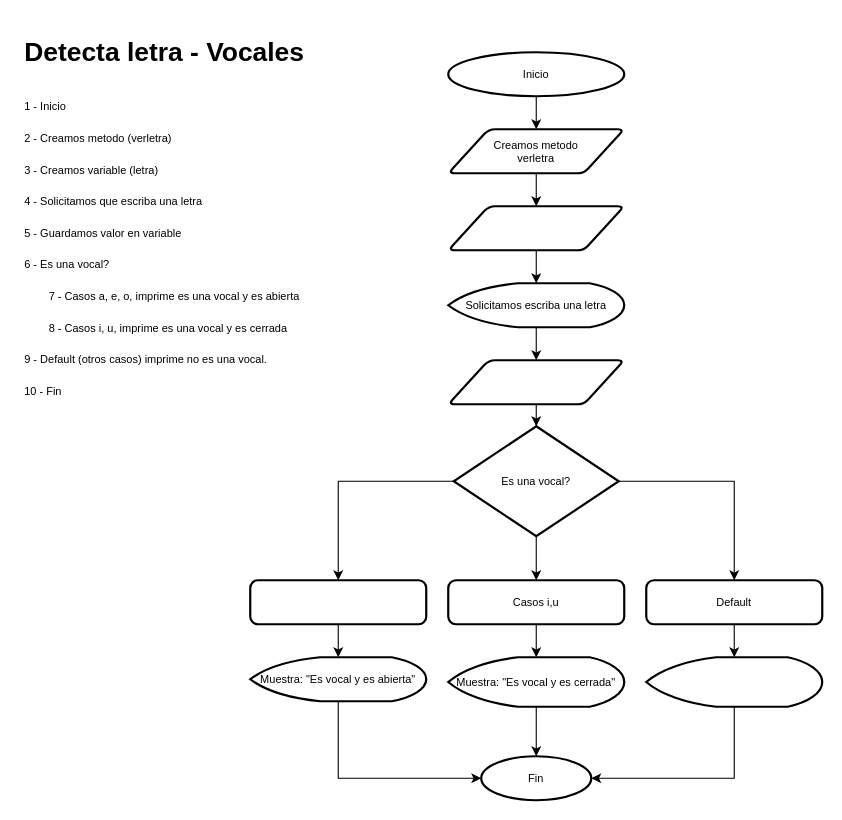
The diagram is 842 pixels wide and 820 high, and some of its shapes have lost their labels. The centre of each missing label's shape, as x and y in pixels:
Casos a, e, o: [338,602]
Creamos variable letra: [536,228]
Guaramod valor en variable: [536,382]
Muestra: "No es vocal": [734,681]
